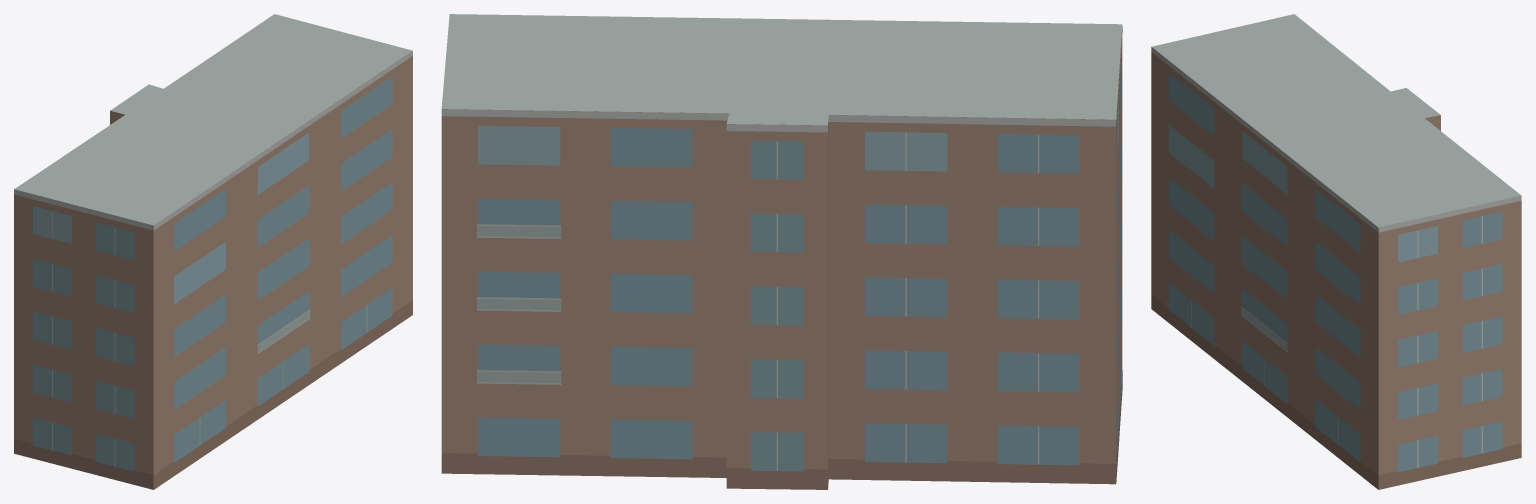
Rendered from survey-upis-33029156.glb.
3 renders of one model, left to right at view 1: azimuth 30°, elevation 25°; view 2: azimuth 150°, elevation 25°; view 3: azimuth 270°, elevation 25°, orthographic. The views are drawn at different scales.
Visible parts, largest first — view 1: survey-upis-33029156.tmp; view 2: survey-upis-33029156.tmp; view 3: survey-upis-33029156.tmp.
Part boxes in pixels (<box>): survey-upis-33029156.tmp: <box>14,14,412,489</box>; survey-upis-33029156.tmp: <box>441,14,1122,489</box>; survey-upis-33029156.tmp: <box>1151,14,1521,489</box>.
Size of the model in its own units: 21.83 by 12.5 by 15.99.
